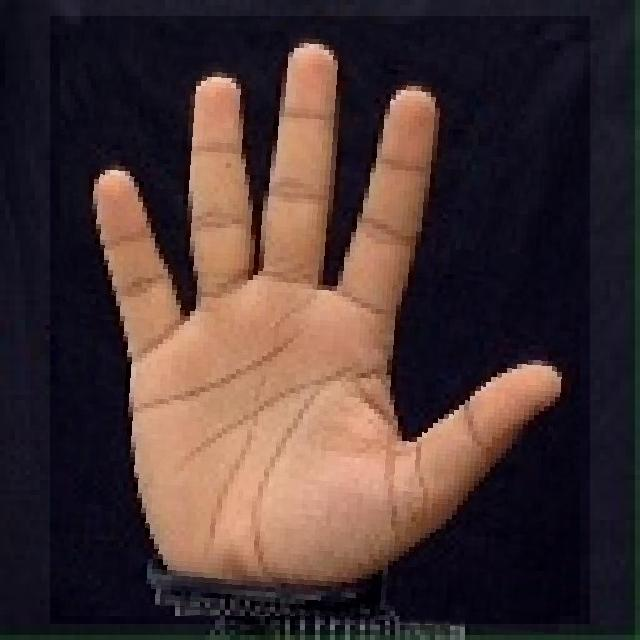Yes: (50, 16, 590, 624)
